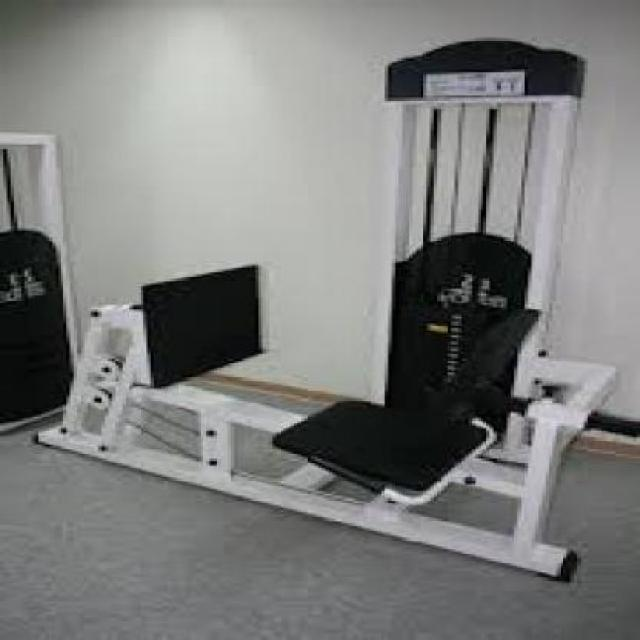leg press: (21, 34, 640, 583)
